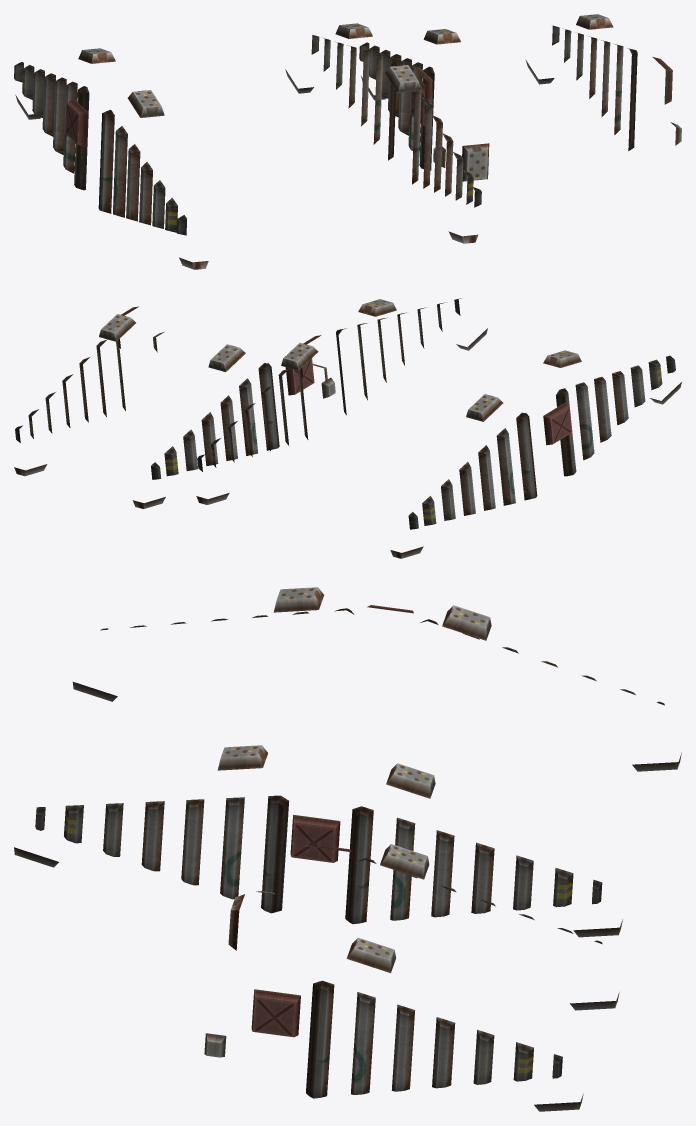
The model's file is prop_static_tan_container_01_06_0.glb.
3 views of the same model, one above another, from view 1: azimuth 30°, elevation 25°; view 2: azimuth 150°, elevation 25°; view 3: azimuth 270°, elevation 25° (orthographic). The views are drawn at different scales.
Parts seen in each view (by area): view 1: tan_container_01_06_LOD0; view 2: tan_container_01_06_LOD0; view 3: tan_container_01_06_LOD0.
Boxes of the visible parts, x1,y1,x2,y2 form: tan_container_01_06_LOD0: [14, 14, 681, 269]; tan_container_01_06_LOD0: [14, 298, 681, 558]; tan_container_01_06_LOD0: [14, 587, 681, 1111].
Size of what is drawn, in the model's own units: 5.83 by 1.79 by 4.88.
1 material, 1 textured.
